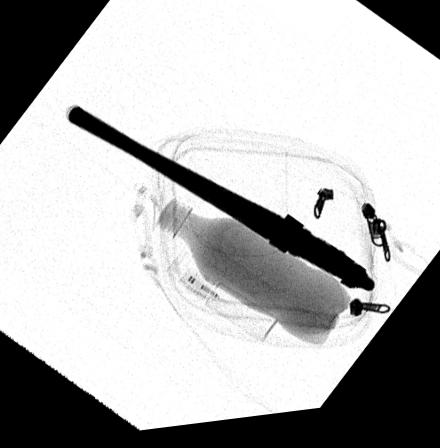Wrench: (121, 39, 254, 328)
